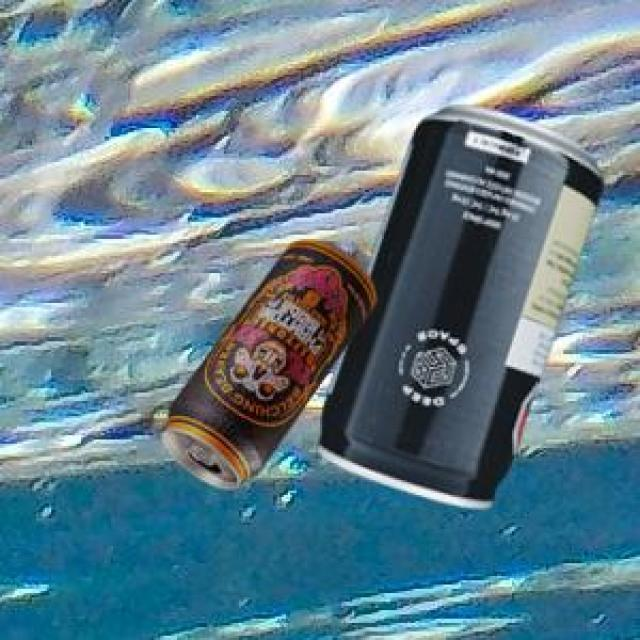logam: (315, 101, 601, 505), (159, 238, 372, 485)
